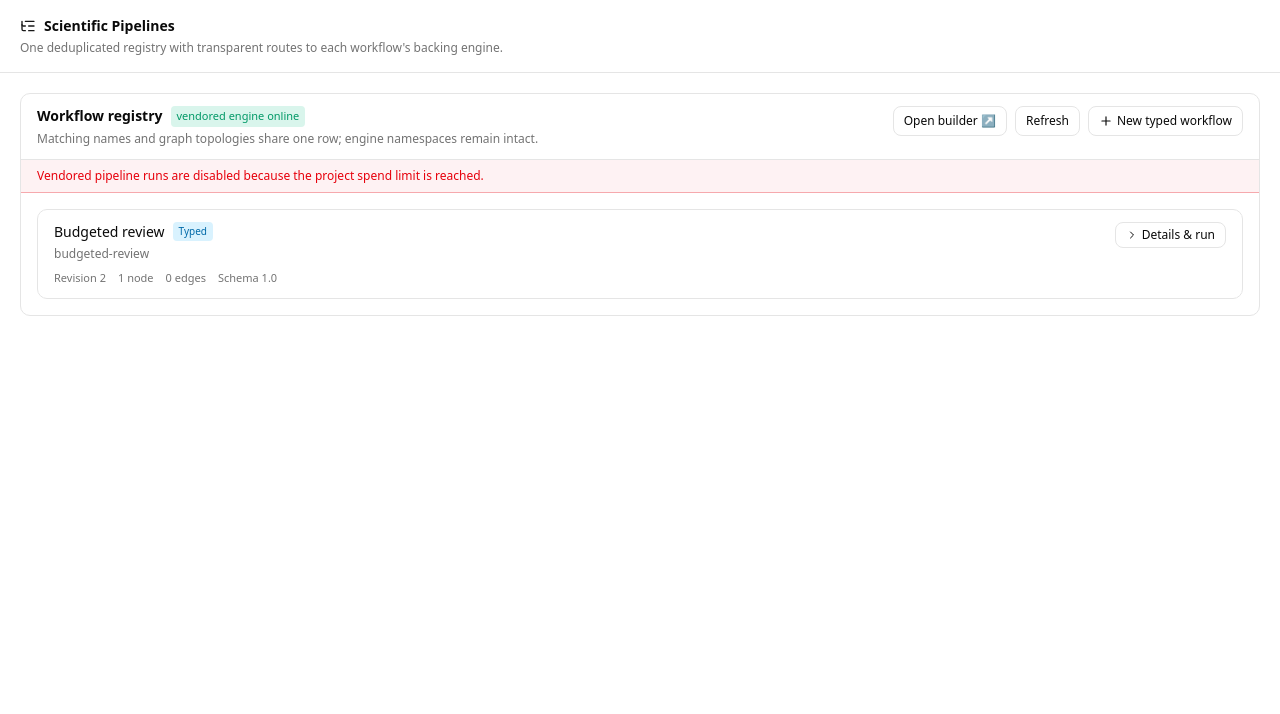
DagWorkflowsPanel › blocks typed workflow admission when the project budget is exhausted
Click the button with aria-label "Open Budgeted review details". click: (1170, 234)
box: [1115,222,1226,248]
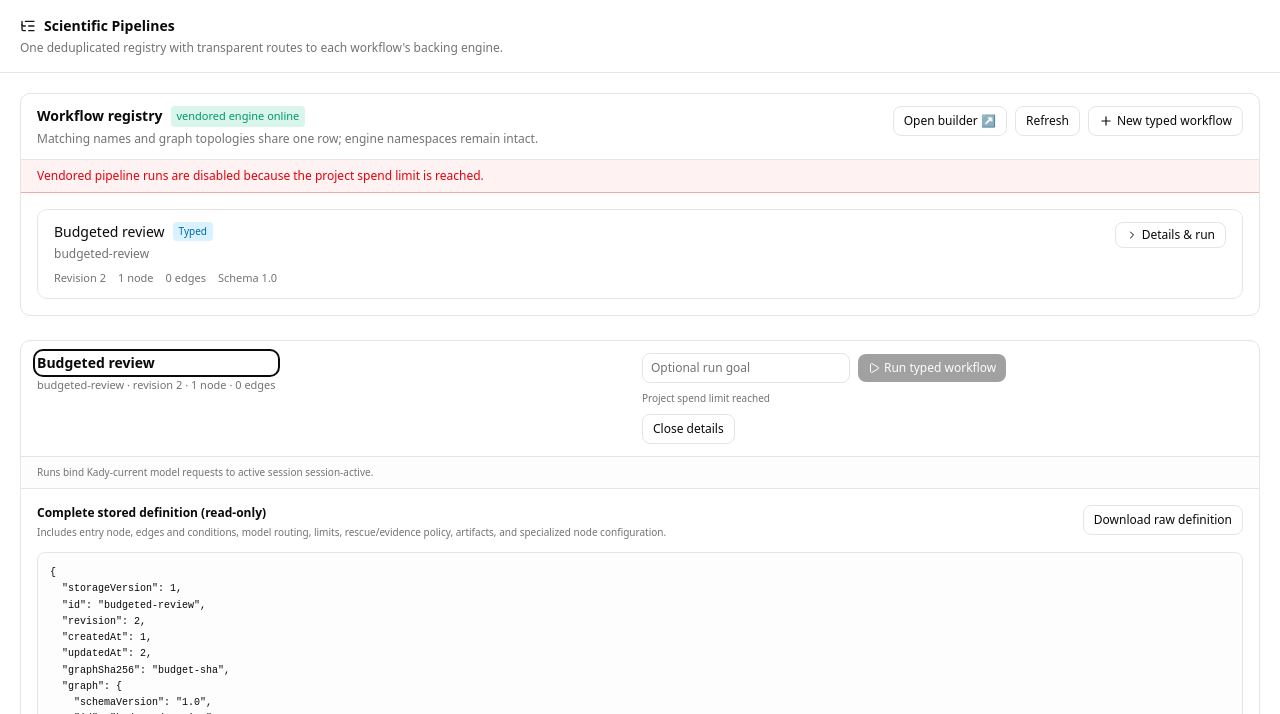
Now the button "Run typed workflow" is disabled, box [858,354,1006,382]
